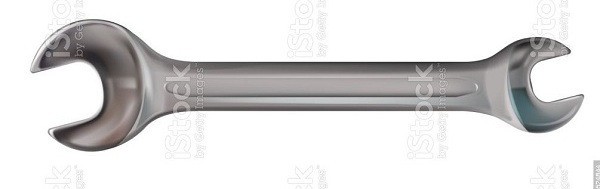Job: (23, 13, 586, 189)
